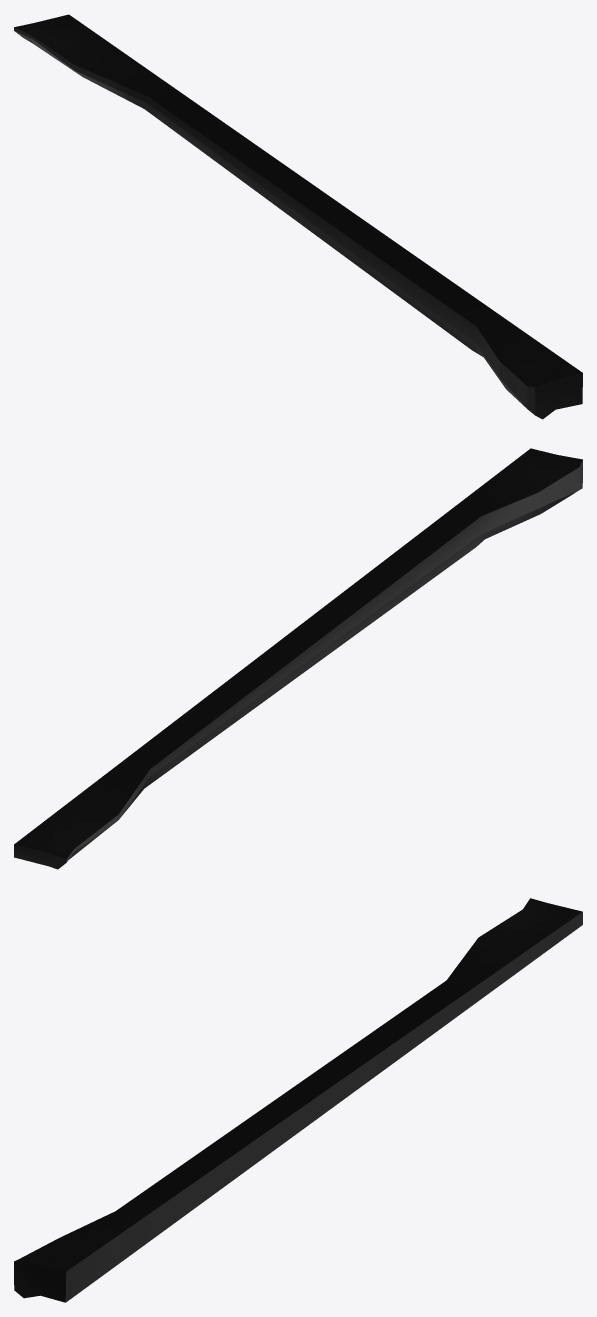
File: Muscle_1_Sidepanel_1_L.fbx
3 views of the same model, one above another, from view 1: azimuth 30°, elevation 25°; view 2: azimuth 150°, elevation 25°; view 3: azimuth 330°, elevation 25° (orthographic).
Visible parts, largest first — view 1: Muscle_1_Sidepanel_1_L; view 2: Muscle_1_Sidepanel_1_L; view 3: Muscle_1_Sidepanel_1_L.
Part boxes in pixels (x1=…): Muscle_1_Sidepanel_1_L: x1=14, y1=14, x2=582, y2=419; Muscle_1_Sidepanel_1_L: x1=14, y1=448, x2=582, y2=869; Muscle_1_Sidepanel_1_L: x1=14, y1=898, x2=582, y2=1302.
Size of the model in its own units: 4.23 by 2.69 by 70.47.
